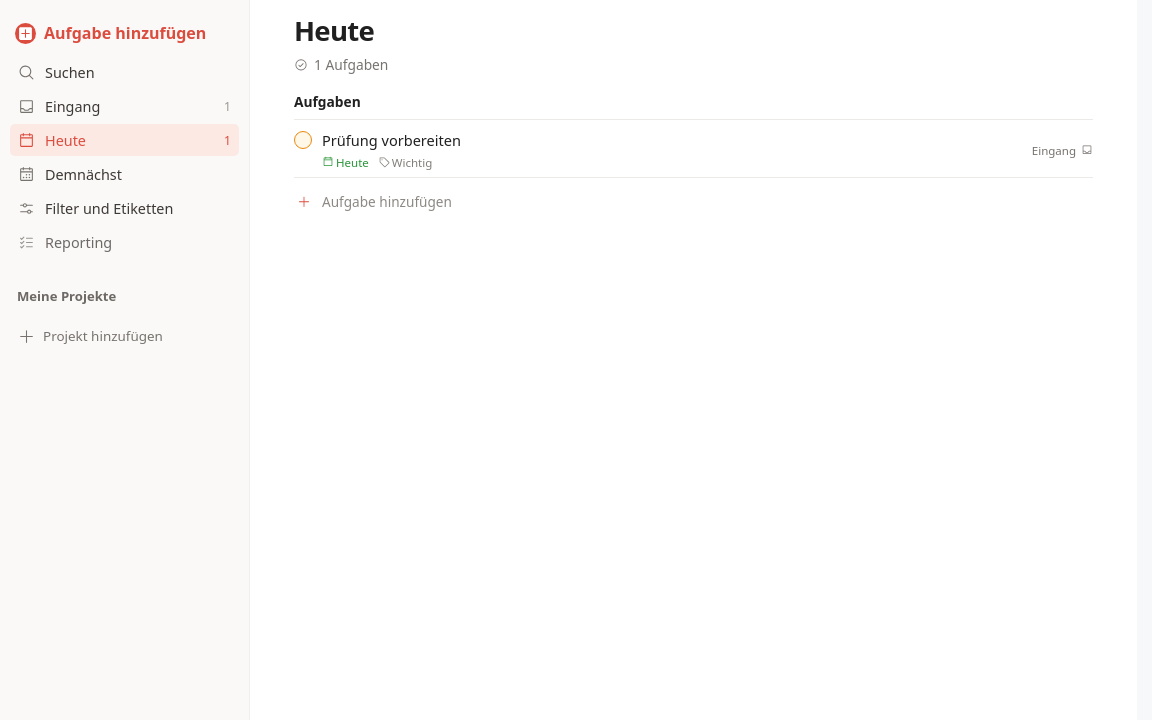
TodosView › queues undo after completion and cancels the pending removal
The width and height of the screenshot is (1152, 720).
Click the button named "Prüfung vorbereiten erledigen" at (303, 140), box left=294, top=131, right=312, bottom=149
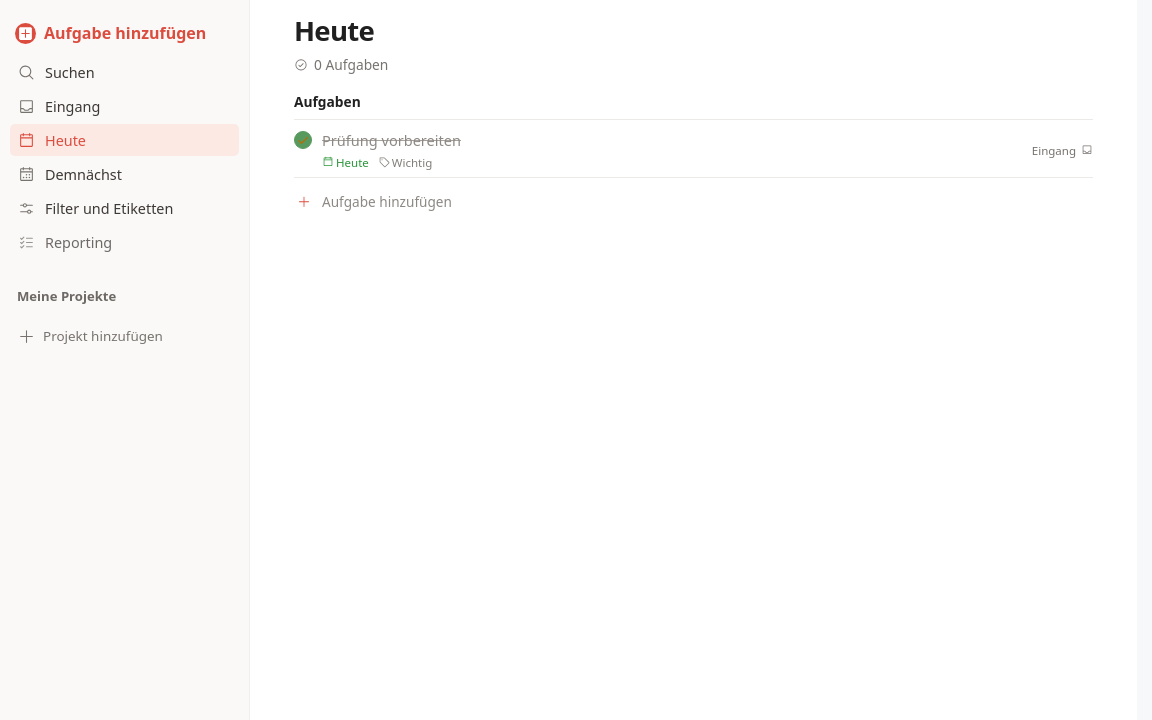
Click the button named "Prüfung vorbereiten reaktivieren" at (303, 140), box left=294, top=131, right=312, bottom=149
Wait 4000 ms
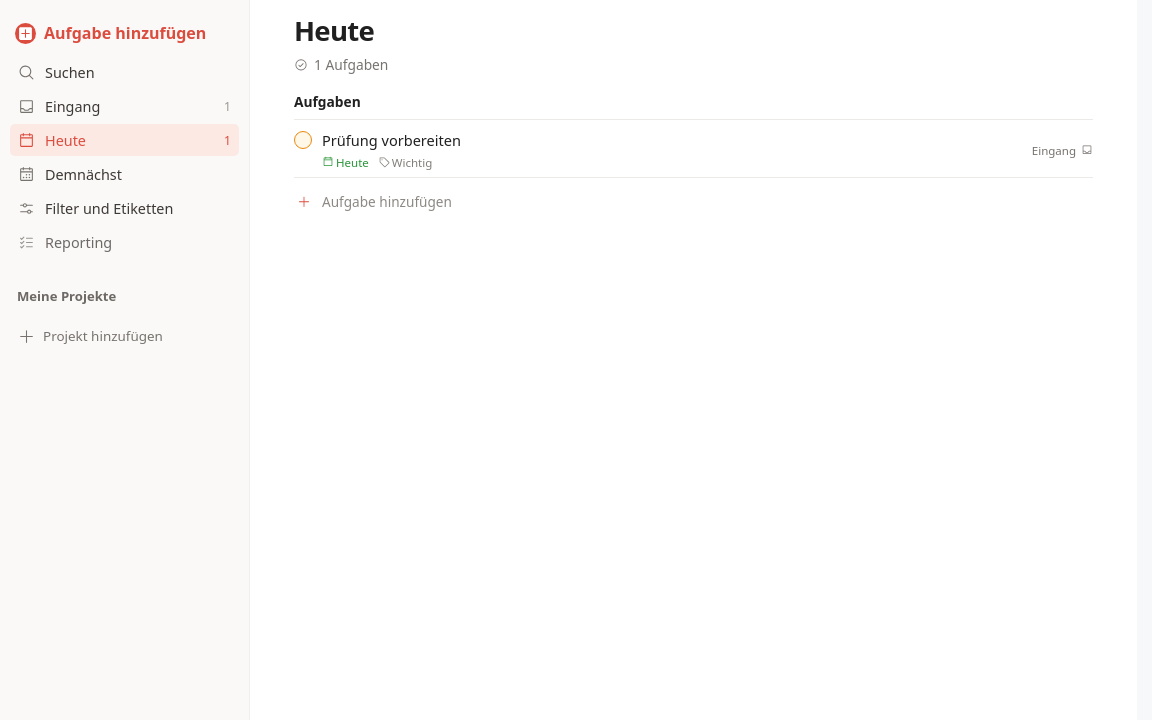
Now the text "1 Aufgaben" is shown, box left=294, top=55, right=388, bottom=74
